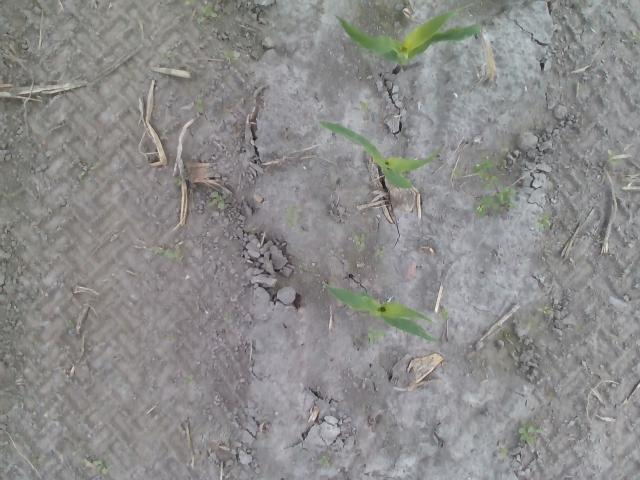Maize: (335, 3, 484, 74), (318, 120, 443, 189), (321, 279, 436, 342)
Weeds: (474, 187, 517, 216), (471, 156, 501, 190), (517, 418, 542, 444), (154, 243, 183, 261), (282, 205, 300, 228), (366, 325, 386, 345), (199, 5, 219, 24), (207, 192, 226, 210), (94, 460, 109, 475), (536, 213, 550, 229), (222, 49, 240, 61), (182, 372, 194, 386), (438, 308, 450, 322), (317, 454, 329, 468), (607, 149, 617, 165), (452, 164, 462, 178), (355, 234, 366, 246), (358, 99, 369, 111), (538, 306, 554, 314), (195, 98, 204, 110), (499, 446, 508, 458), (171, 176, 181, 186), (630, 31, 640, 41), (1, 190, 10, 198), (225, 312, 232, 322), (298, 264, 308, 271), (185, 0, 198, 5), (66, 319, 74, 327), (161, 127, 168, 135), (544, 248, 553, 254), (78, 171, 85, 178), (378, 248, 383, 256), (359, 311, 366, 316)
